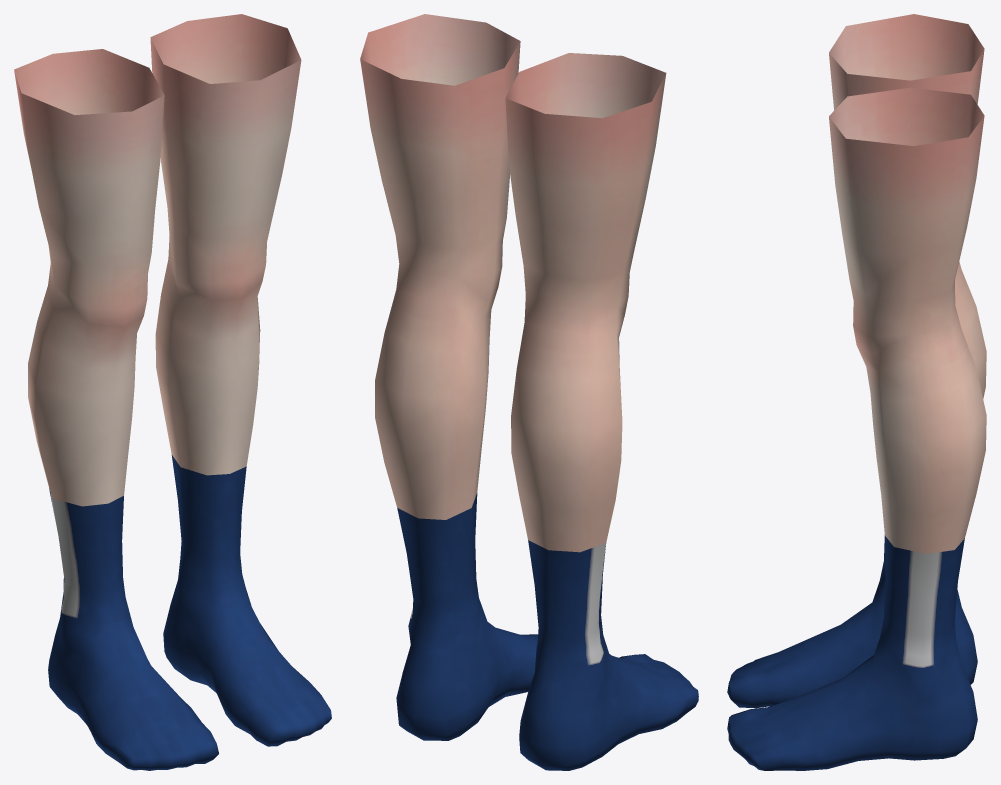
The model's file is p0_lgw1002_00_lgw00.gltf.
The picture shows the model from 3 angles, left to right: view 1: azimuth 30°, elevation 25°; view 2: azimuth 150°, elevation 25°; view 3: azimuth 270°, elevation 25°; orthographic projection. The views are drawn at different scales.
Visible parts, largest first — view 1: lgw00_legs01_mesh_shape:legs_skin, lgw00_legs02_mesh_shape:legs_skin, lgw00_legs00_mesh_shape:legs, lgw00_legs01_mesh_shape:legs; view 2: lgw00_legs01_mesh_shape:legs_skin, lgw00_legs02_mesh_shape:legs_skin, lgw00_legs00_mesh_shape:legs, lgw00_legs01_mesh_shape:legs; view 3: lgw00_legs00_mesh_shape:legs, lgw00_legs01_mesh_shape:legs_skin, lgw00_legs02_mesh_shape:legs_skin, lgw00_legs01_mesh_shape:legs.
Part boxes in pixels (left/top/right/bottom): lgw00_legs01_mesh_shape:legs_skin: left=28, top=156, right=281, bottom=506; lgw00_legs02_mesh_shape:legs_skin: left=14, top=14, right=301, bottom=224; lgw00_legs00_mesh_shape:legs: left=48, top=500, right=331, bottom=770; lgw00_legs01_mesh_shape:legs: left=49, top=455, right=246, bottom=549; lgw00_legs01_mesh_shape:legs_skin: left=375, top=171, right=645, bottom=552; lgw00_legs02_mesh_shape:legs_skin: left=360, top=14, right=666, bottom=231; lgw00_legs00_mesh_shape:legs: left=396, top=541, right=698, bottom=770; lgw00_legs01_mesh_shape:legs: left=397, top=493, right=606, bottom=594; lgw00_legs00_mesh_shape:legs: left=727, top=536, right=977, bottom=770; lgw00_legs01_mesh_shape:legs_skin: left=842, top=228, right=986, bottom=553; lgw00_legs02_mesh_shape:legs_skin: left=829, top=14, right=984, bottom=256; lgw00_legs01_mesh_shape:legs: left=884, top=535, right=964, bottom=596.
Size of what is drawn, in the model's own units: 0.2758 by 0.6251 by 0.2287.
2 materials, 2 textured.
